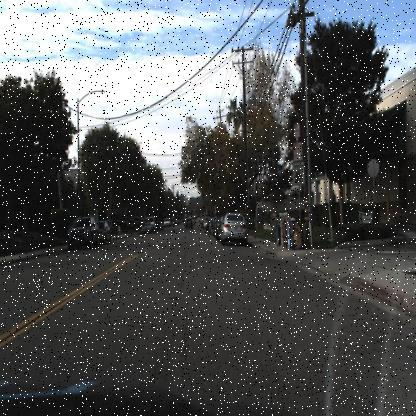car: (67, 213, 100, 249), (218, 214, 249, 243), (90, 219, 108, 251), (131, 217, 147, 235)
